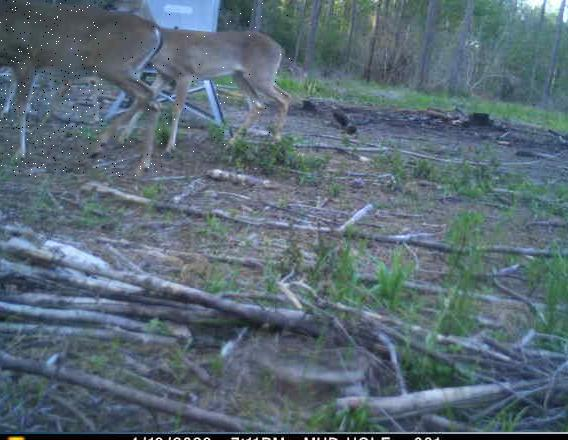Deer: (103, 0, 293, 160), (0, 0, 164, 177)
